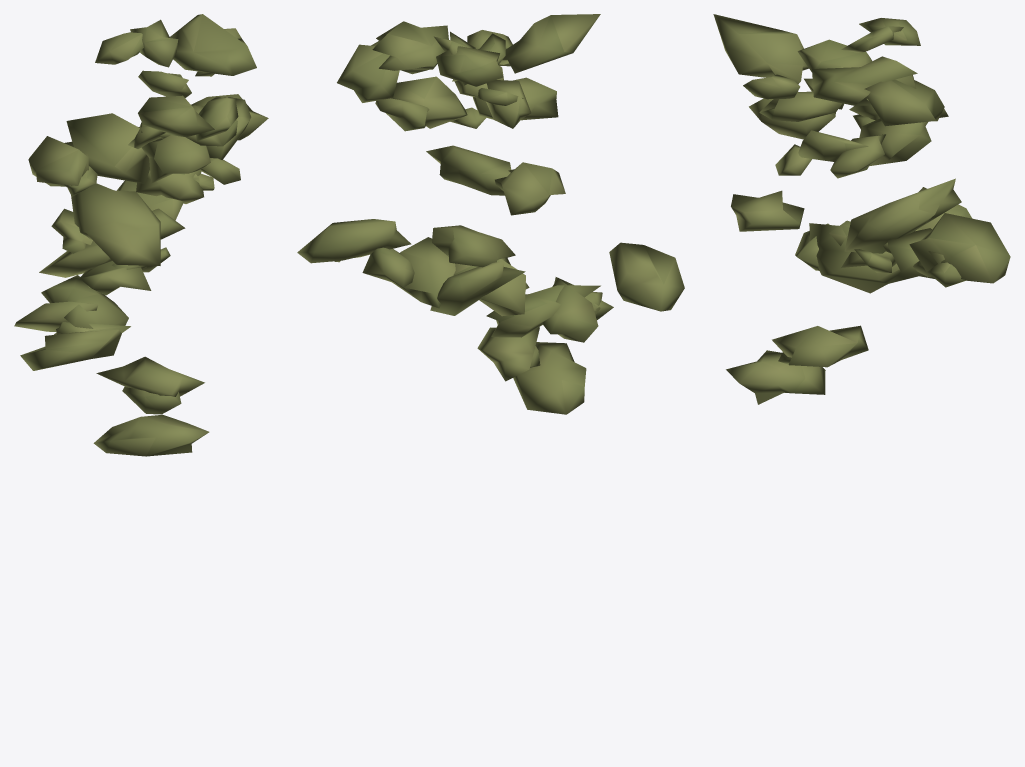
File: baum-buche-1-fern.glb
3 views of the same model, side by side, from view 1: azimuth 30°, elevation 25°; view 2: azimuth 150°, elevation 25°; view 3: azimuth 270°, elevation 25° (orthographic). The views are drawn at different scales.
Parts seen in each view (by area): view 1: Baum_Stamm.001; view 2: Baum_Stamm.001; view 3: Baum_Stamm.001.
Boxes of the visible parts, x1=… form: Baum_Stamm.001: x1=14, y1=14, x2=268, y2=456; Baum_Stamm.001: x1=297, y1=14, x2=684, y2=414; Baum_Stamm.001: x1=713, y1=14, x2=1010, y2=404.
Size of the model in its own units: 10.89 by 27.18 by 10.01.
